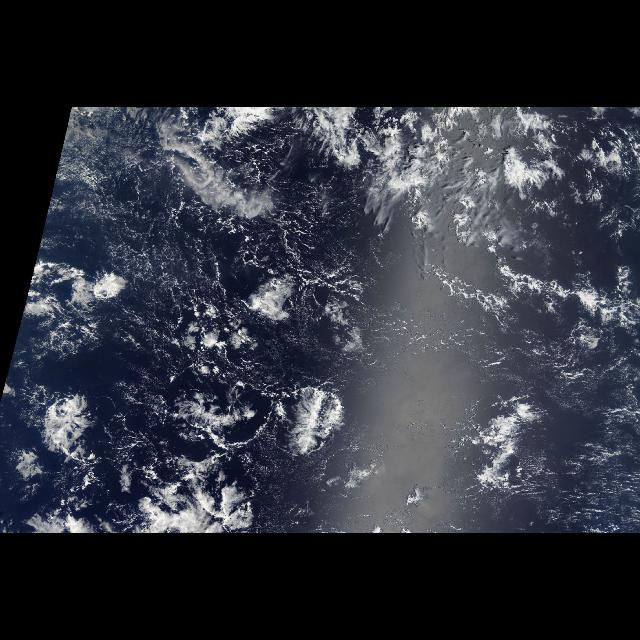Gravel: (128, 329, 274, 468)
Sugar: (45, 118, 202, 242)
